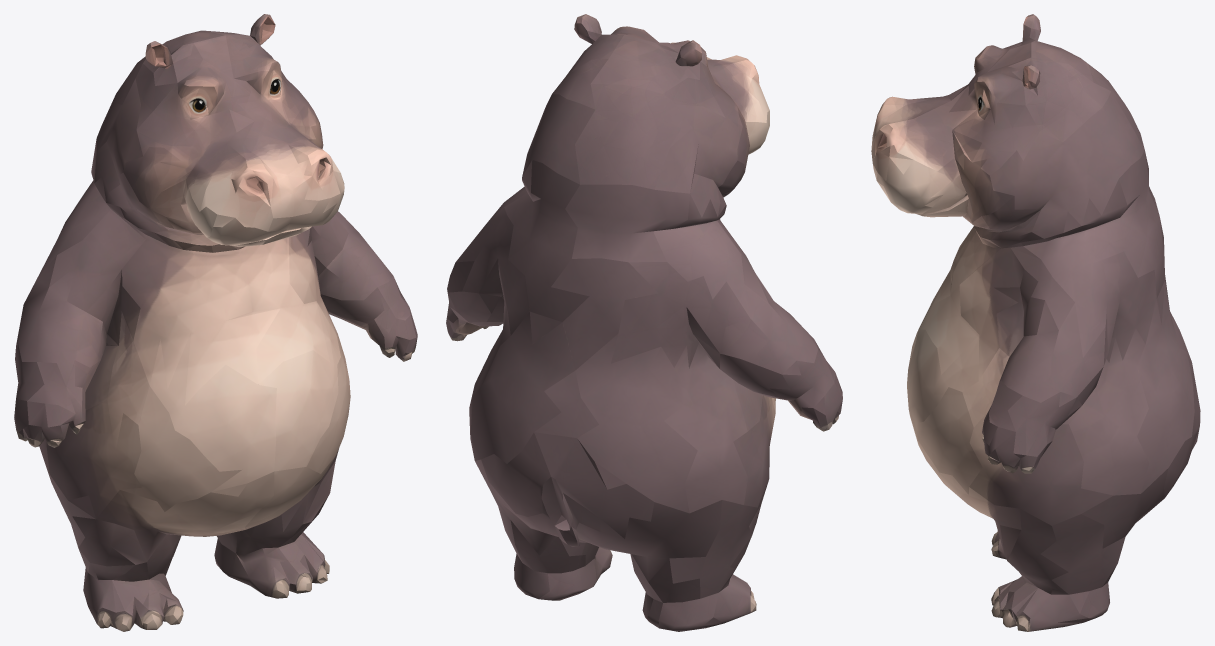
The model's file is hippo.glb.
3 renders of one model, left to right at view 1: azimuth 30°, elevation 25°; view 2: azimuth 150°, elevation 25°; view 3: azimuth 270°, elevation 25°, orthographic. The views are drawn at different scales.
Visible parts, largest first — view 1: output_unwrapped; view 2: output_unwrapped; view 3: output_unwrapped.
Part boxes in pixels (<box>): output_unwrapped: <box>14,14,417,631</box>; output_unwrapped: <box>446,14,842,631</box>; output_unwrapped: <box>871,14,1200,631</box>.
Size of the model in its own units: 1.37 by 1.9 by 1.05.
Materials: 1 (1 with a texture image).
